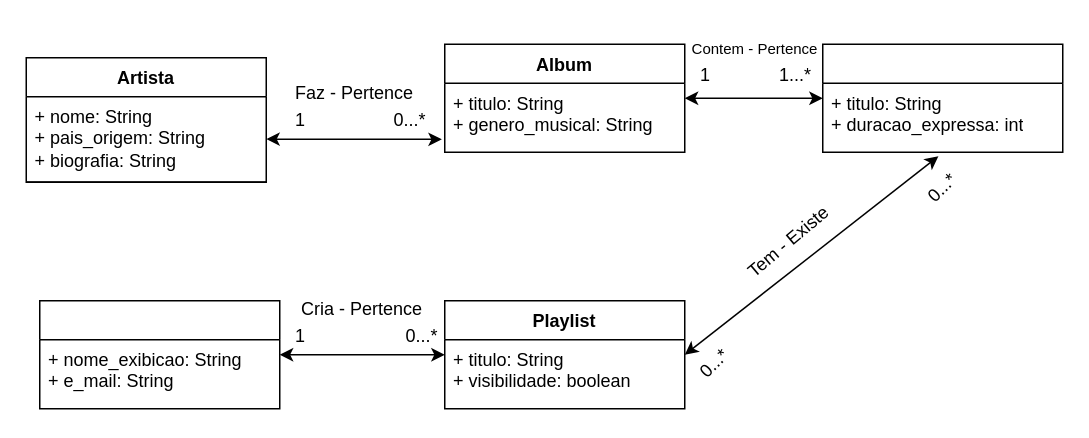
The diagram is 1089 pixels wide and 438 high, and some of its shapes have lost their labels. Each missing label, with the box of its shape:
Faixa Musical: (821, 43, 1063, 152)
Usuario: (38, 299, 280, 409)
